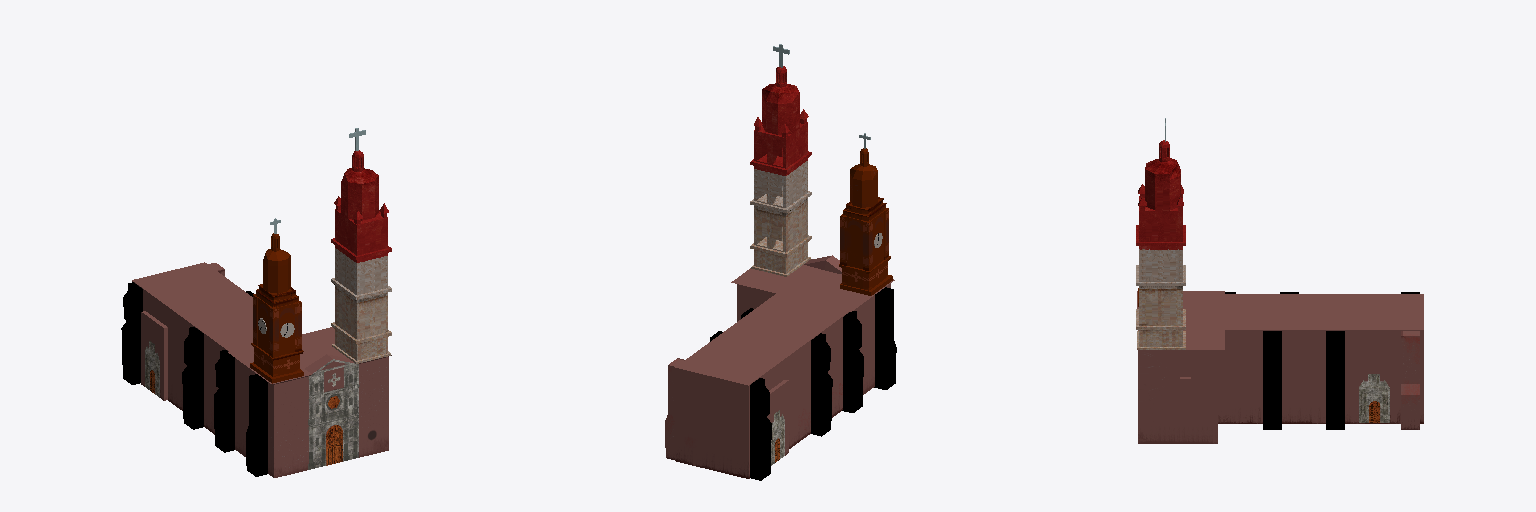
The picture shows the model from 3 angles: view 1: azimuth 30°, elevation 25°; view 2: azimuth 150°, elevation 25°; view 3: azimuth 270°, elevation 25°; orthographic projection.
Parts seen in each view (by area): view 1: parroquia parroquiaCompleta parroquia, parroquiaCompleta parroquia parroquia1, parroquiaCompleta parroquia parroquiaTorrePeqe, parroquiaCompleta parroquia torreGrande parroquiatorre_0, parroquiaCompleta parroquia parroquiatorre_2 torreGrande, parroquiaCompleta parroquia torreGrande parroquiatorre_1, parroquiaCompleta parroquia entradas parroquiaEntrada2, parroquiaCompleta parroquia columnas columnas parroquiaColumna, parroquiaCompleta parroquia columnas columnas parroquiaColumna2, parroquiaCompleta parroquia cupula cupula, parroquiaCompleta parroquia columnas columnas parroquiaColumna1, parroquiaCompleta parroquia columnas parroquiaColumna3 columnas (+1 smaller); view 2: parroquiaCompleta parroquia parroquia1, parroquia parroquiaCompleta parroquia, parroquiaCompleta parroquia parroquiaTorrePeqe, parroquiaCompleta parroquia torreGrande parroquiatorre_0, parroquiaCompleta parroquia parroquiatorre_2 torreGrande, parroquiaCompleta parroquia torreGrande parroquiatorre_1, parroquiaCompleta parroquia columnas parroquiaColumna3 columnas, parroquiaCompleta parroquia columnas columnas parroquiaColumna, parroquiaCompleta parroquia columnas columnas parroquiaColumna2, parroquiaCompleta parroquia cupula cupula, parroquiaCompleta parroquia columnas columnas parroquiaColumna1, parroquiaCompleta parroquia entradas parroquiaEntrada2 (+2 smaller); view 3: parroquiaCompleta parroquia parroquia1, parroquia parroquiaCompleta parroquia, parroquiaCompleta parroquia parroquiaEntrada1 entradas, parroquiaCompleta parroquia torreGrande parroquiatorre_0, parroquiaCompleta parroquia parroquiatorre_2 torreGrande, parroquiaCompleta parroquia cupula cupula, parroquiaCompleta parroquia parroquiaColumna2 columnas1 columnas, parroquiaCompleta parroquia columnas1 columnas parroquiaColumna1, parroquiaCompleta parroquia columnas1 columnas parroquiaColumna, parroquiaCompleta parroquia torreGrande parroquiatorre_1.
Boxes of the visible parts, <box> form: parroquia parroquiaCompleta parroquia: <box>228,327,391,477</box>; parroquiaCompleta parroquia parroquia1: <box>132,262,252,434</box>; parroquiaCompleta parroquia parroquiaTorrePeqe: <box>250,284,303,383</box>; parroquiaCompleta parroquia torreGrande parroquiatorre_0: <box>331,287,391,363</box>; parroquiaCompleta parroquia parroquiatorre_2 torreGrande: <box>331,196,391,262</box>; parroquiaCompleta parroquia torreGrande parroquiatorre_1: <box>331,248,391,302</box>; parroquiaCompleta parroquia entradas parroquiaEntrada2: <box>141,311,167,400</box>; parroquiaCompleta parroquia columnas columnas parroquiaColumna: <box>246,374,267,476</box>; parroquiaCompleta parroquia columnas columnas parroquiaColumna2: <box>182,327,203,429</box>; parroquiaCompleta parroquia cupula cupula: <box>341,150,378,220</box>; parroquiaCompleta parroquia columnas columnas parroquiaColumna1: <box>214,350,234,452</box>; parroquiaCompleta parroquia columnas parroquiaColumna3 columnas: <box>121,282,142,384</box>; parroquiaCompleta parroquia parroquia1: <box>675,294,849,478</box>; parroquia parroquiaCompleta parroquia: <box>731,255,894,394</box>; parroquiaCompleta parroquia parroquiaTorrePeqe: <box>839,197,892,295</box>; parroquiaCompleta parroquia torreGrande parroquiatorre_0: <box>750,201,811,276</box>; parroquiaCompleta parroquia parroquiatorre_2 torreGrande: <box>750,109,811,175</box>; parroquiaCompleta parroquia torreGrande parroquiatorre_1: <box>750,161,811,215</box>; parroquiaCompleta parroquia columnas parroquiaColumna3 columnas: <box>750,378,771,480</box>; parroquiaCompleta parroquia columnas columnas parroquiaColumna: <box>874,287,896,389</box>; parroquiaCompleta parroquia columnas columnas parroquiaColumna2: <box>811,333,832,436</box>; parroquiaCompleta parroquia cupula cupula: <box>762,66,799,134</box>; parroquiaCompleta parroquia columnas columnas parroquiaColumna1: <box>842,311,863,412</box>; parroquiaCompleta parroquia entradas parroquiaEntrada2: <box>767,380,788,465</box>; parroquiaCompleta parroquia parroquia1: <box>1218,294,1423,423</box>; parroquia parroquiaCompleta parroquia: <box>1137,291,1224,443</box>; parroquiaCompleta parroquia parroquiaEntrada1 entradas: <box>1352,351,1396,422</box>; parroquiaCompleta parroquia torreGrande parroquiatorre_0: <box>1136,289,1185,349</box>; parroquiaCompleta parroquia parroquiatorre_2 torreGrande: <box>1136,184,1185,249</box>; parroquiaCompleta parroquia cupula cupula: <box>1145,140,1180,210</box>; parroquiaCompleta parroquia parroquiaColumna2 columnas1 columnas: <box>1263,331,1281,429</box>; parroquiaCompleta parroquia columnas1 columnas parroquiaColumna1: <box>1326,331,1344,429</box>; parroquiaCompleta parroquia columnas1 columnas parroquiaColumna: <box>1401,331,1419,429</box>; parroquiaCompleta parroquia torreGrande parroquiatorre_1: <box>1136,249,1185,288</box>.
Bounding box in the file's own units: 308 × 723 × 594.
Materials: 13 (12 with a texture image).